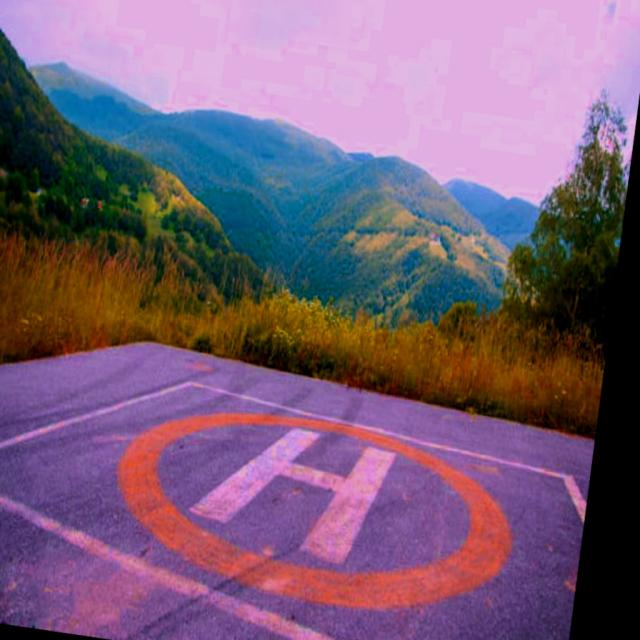helipad: (114, 405, 519, 615)
